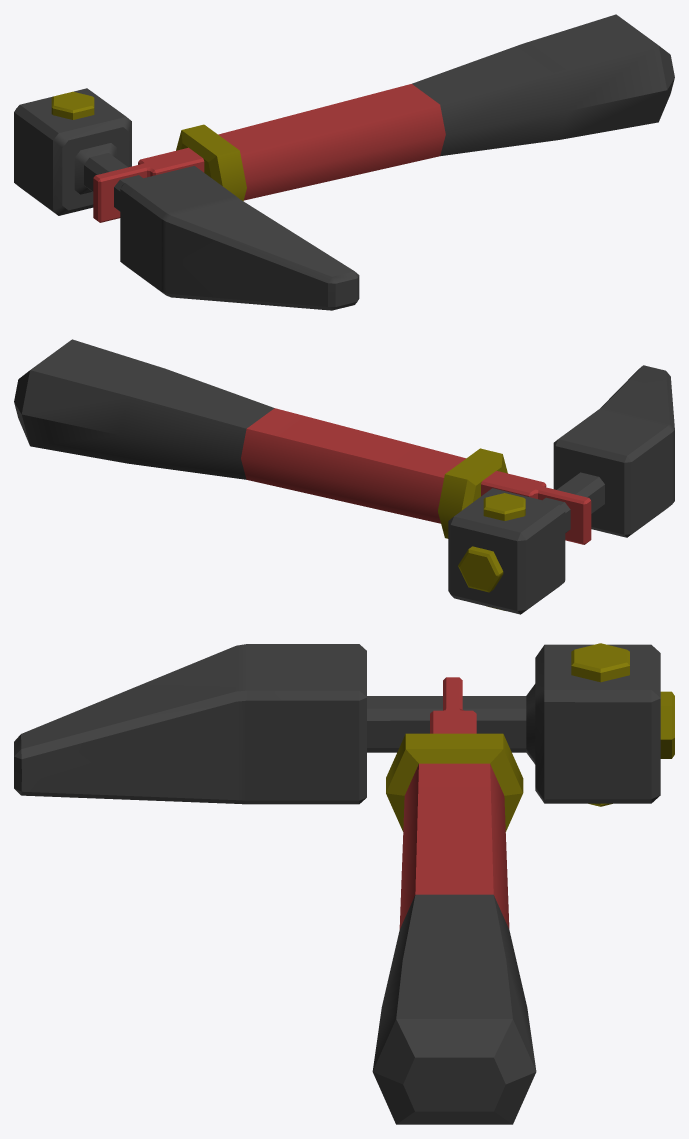
The model's file is SM_RockPick.fbx.
3 views of the same model, one above another, from view 1: azimuth 30°, elevation 25°; view 2: azimuth 150°, elevation 25°; view 3: azimuth 270°, elevation 25° (orthographic). The views are drawn at different scales.
Visible parts, largest first — view 1: handle, pick1, centerpiece, screws; view 2: handle, pick1, centerpiece, screws; view 3: pick1, handle, screws, centerpiece.
Part boxes in pixels (bbox=[...]): handle: bbox=[176, 14, 674, 201]; pick1: bbox=[14, 88, 359, 310]; centerpiece: bbox=[93, 147, 204, 222]; screws: bbox=[51, 91, 94, 119]; handle: bbox=[14, 339, 507, 538]; pick1: bbox=[448, 365, 674, 614]; centerpiece: bbox=[481, 471, 591, 544]; screws: bbox=[458, 493, 525, 610]; pick1: bbox=[14, 644, 660, 804]; handle: bbox=[372, 733, 536, 1124]; screws: bbox=[571, 643, 674, 806]; centerpiece: bbox=[430, 677, 476, 733].
Size of the model in its own units: 13.53 by 2.28 by 9.88.
